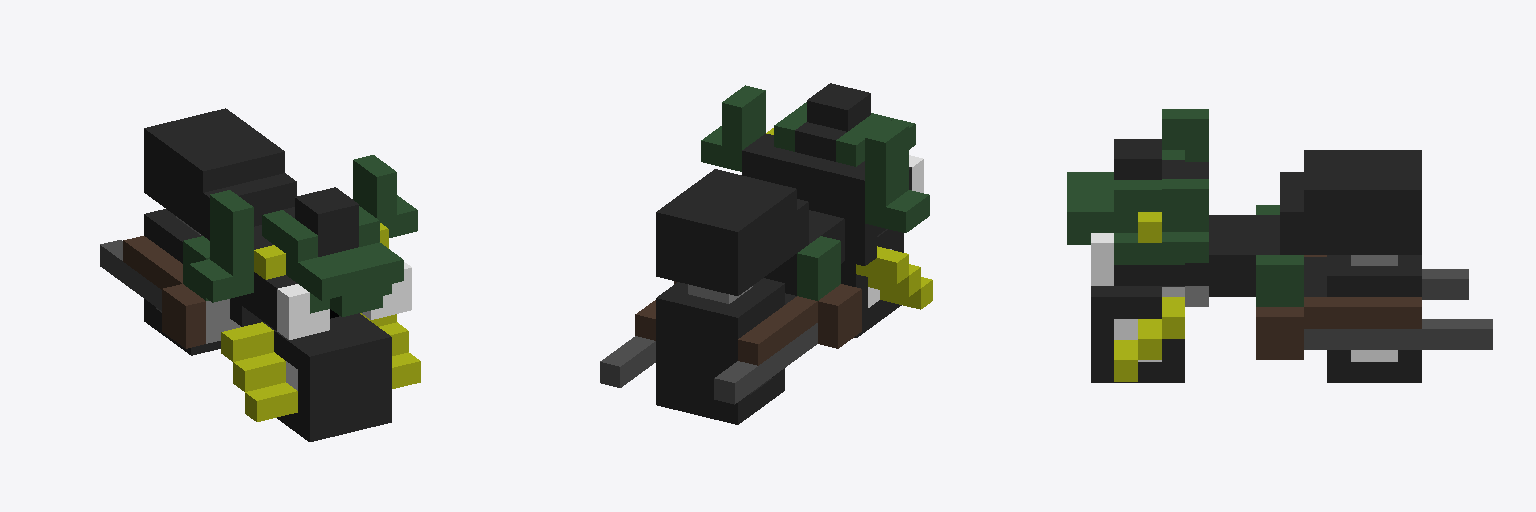
3 renders of one model, left to right at view 1: azimuth 30°, elevation 25°; view 2: azimuth 150°, elevation 25°; view 3: azimuth 270°, elevation 25°, orthographic.
Parts seen in each view (by area): view 1: object 1; view 2: object 1; view 3: object 1.
Boxes of the visible parts, box(x1,y1,x2,y2) form: object 1: box(100, 108, 420, 441); object 1: box(600, 83, 932, 424); object 1: box(1067, 109, 1492, 382).
Size of the model in its own units: 1 by 1 by 1.8.
Materials: 1 (1 with a texture image).